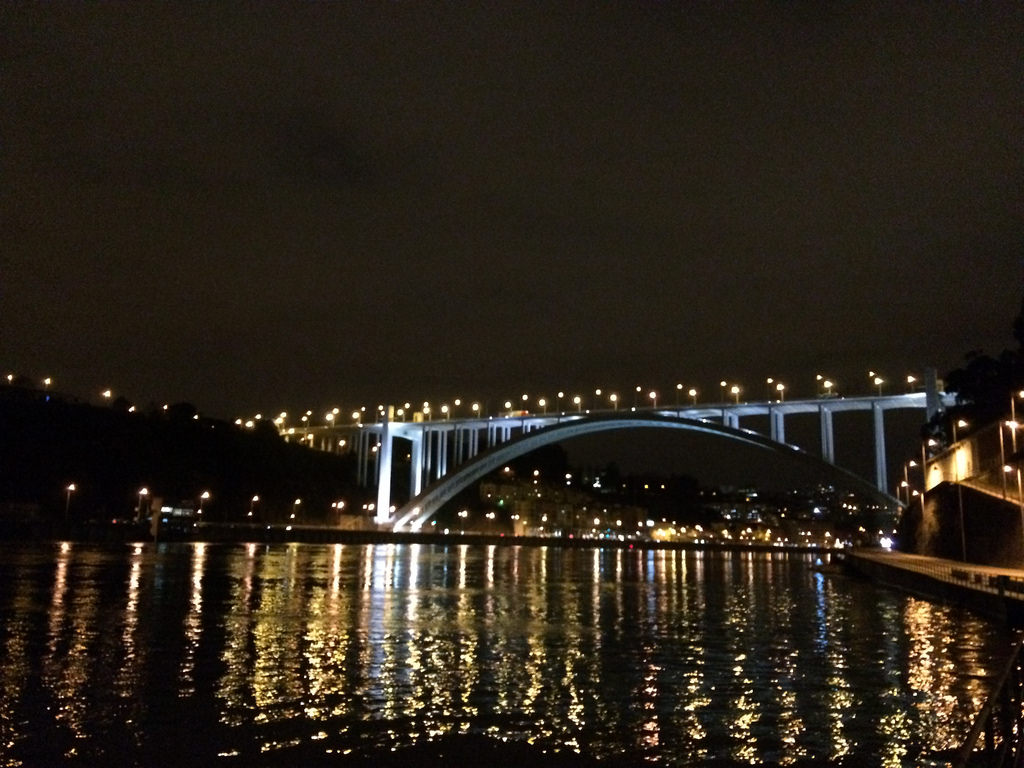arrabida: (279, 367, 963, 533)
